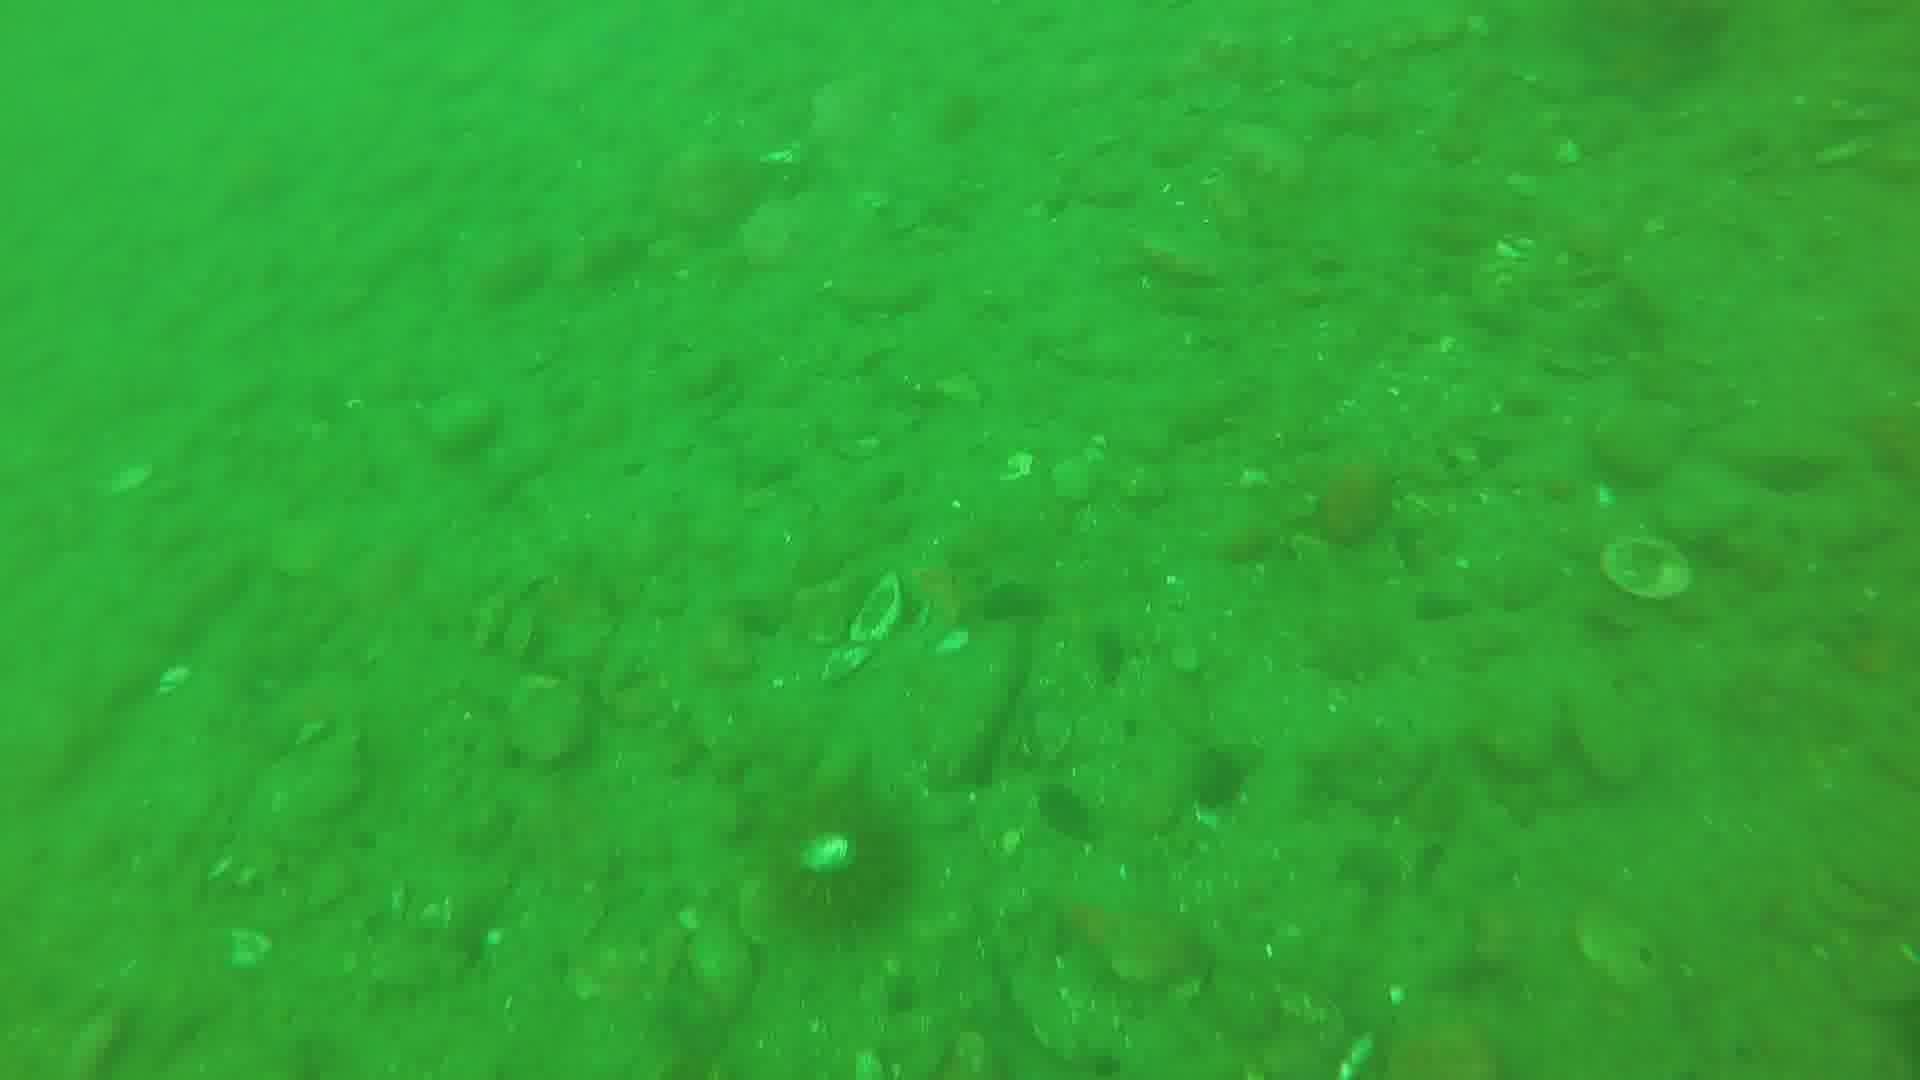echinus: (773, 782, 914, 942)
scallop: (804, 572, 906, 678), (1589, 530, 1695, 612), (1575, 914, 1660, 990), (88, 459, 161, 501), (160, 657, 186, 700)
